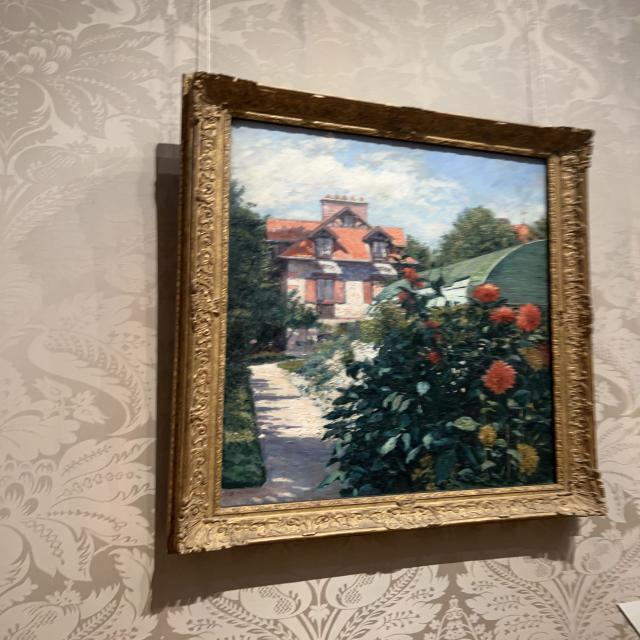summer: (227, 130, 554, 504)
